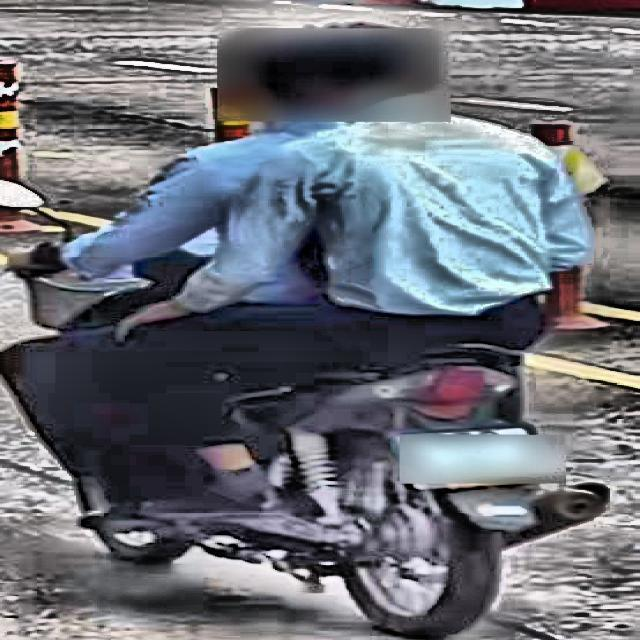motorcycle: (0, 175, 608, 624)
